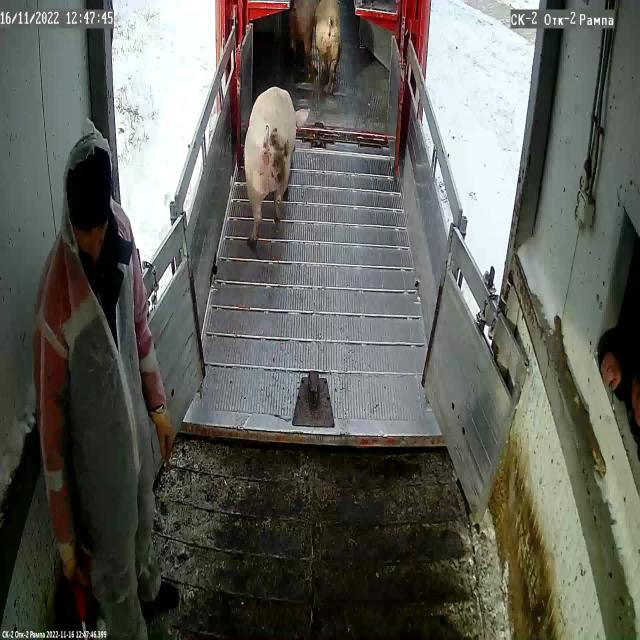pig: (244, 87, 308, 243)
